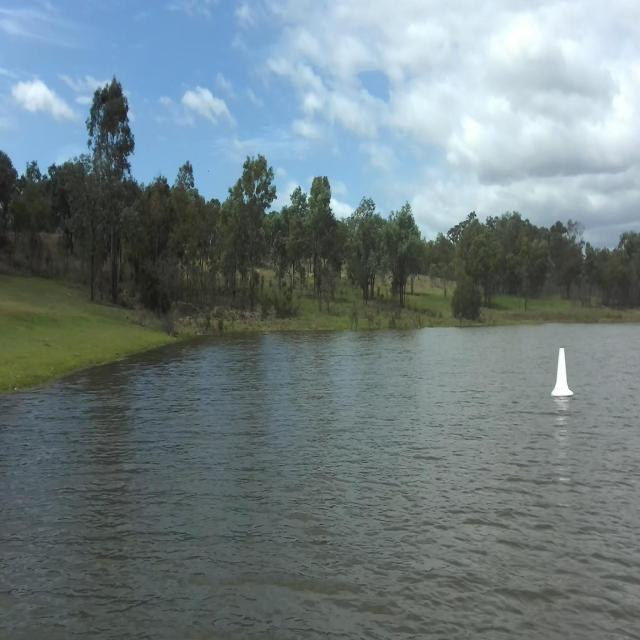White_Buoy: (550, 348, 583, 404), (552, 352, 574, 393)
